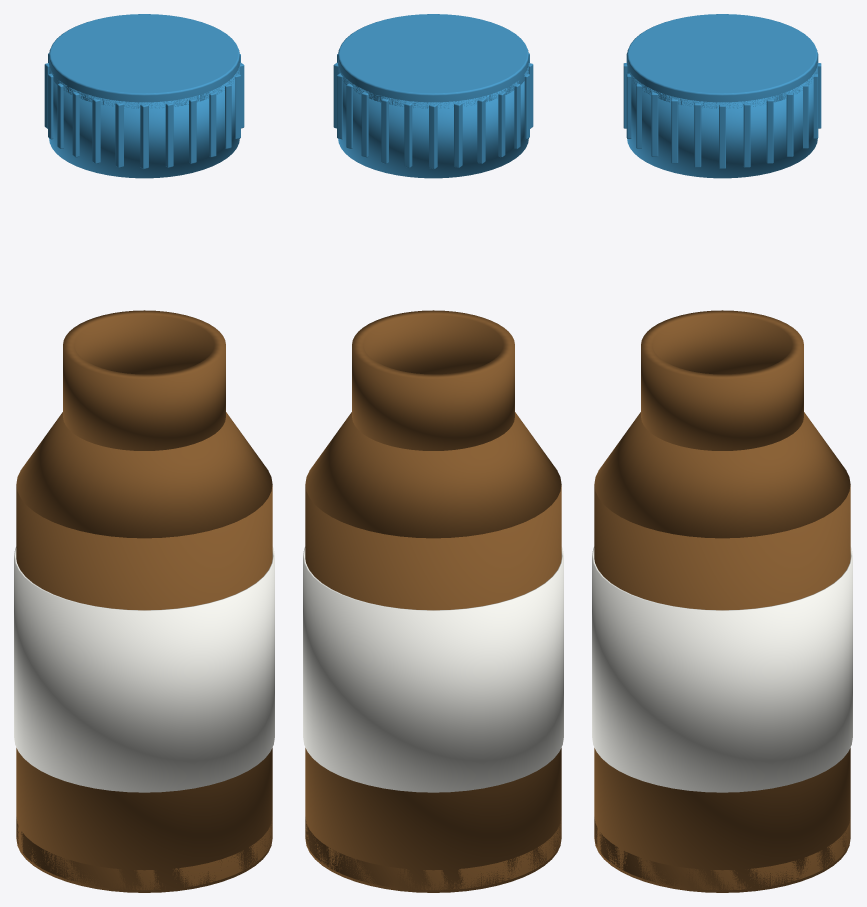
Rendered from bottle.glb.
The picture shows the model from 3 angles, left to right: view 1: azimuth 30°, elevation 25°; view 2: azimuth 150°, elevation 25°; view 3: azimuth 270°, elevation 25°; orthographic projection.
Visible parts, largest first — view 1: medicine_bottle_0__label, medicine_bottle_0__body, medicine_bottle_0__shoulder, medicine_bottle_0__neck, medicine_bottle_0__cap_top, medicine_bottle_0__cap_skirt, medicine_bottle_0__base, medicine_bottle_0__cap_rib14, medicine_bottle_0__cap_rib16, medicine_bottle_0__cap_rib15, medicine_bottle_0__cap_rib17; view 2: medicine_bottle_0__label, medicine_bottle_0__body, medicine_bottle_0__shoulder, medicine_bottle_0__neck, medicine_bottle_0__cap_top, medicine_bottle_0__cap_skirt, medicine_bottle_0__base, medicine_bottle_0__cap_rib8, medicine_bottle_0__cap_rib10, medicine_bottle_0__cap_rib9, medicine_bottle_0__cap_rib7; view 3: medicine_bottle_0__label, medicine_bottle_0__body, medicine_bottle_0__shoulder, medicine_bottle_0__neck, medicine_bottle_0__cap_top, medicine_bottle_0__cap_skirt, medicine_bottle_0__base.
Boxes of the visible parts, x1=… form: medicine_bottle_0__label: x1=14, y1=547, x2=274, y2=792; medicine_bottle_0__body: x1=16, y1=485, x2=272, y2=892; medicine_bottle_0__shoulder: x1=16, y1=412, x2=272, y2=538; medicine_bottle_0__neck: x1=63, y1=310, x2=225, y2=450; medicine_bottle_0__cap_top: x1=49, y1=14, x2=239, y2=108; medicine_bottle_0__cap_skirt: x1=49, y1=63, x2=239, y2=178; medicine_bottle_0__base: x1=16, y1=817, x2=272, y2=890; medicine_bottle_0__cap_rib14: x1=92, y1=98, x2=100, y2=163; medicine_bottle_0__cap_rib16: x1=140, y1=104, x2=148, y2=169; medicine_bottle_0__cap_rib15: x1=115, y1=102, x2=123, y2=167; medicine_bottle_0__cap_rib17: x1=165, y1=103, x2=173, y2=167; medicine_bottle_0__label: x1=303, y1=547, x2=563, y2=792; medicine_bottle_0__body: x1=305, y1=485, x2=561, y2=892; medicine_bottle_0__shoulder: x1=305, y1=412, x2=561, y2=538; medicine_bottle_0__neck: x1=352, y1=310, x2=514, y2=450; medicine_bottle_0__cap_top: x1=338, y1=14, x2=528, y2=108; medicine_bottle_0__cap_skirt: x1=338, y1=63, x2=528, y2=178; medicine_bottle_0__base: x1=305, y1=817, x2=561, y2=890; medicine_bottle_0__cap_rib8: x1=429, y1=104, x2=437, y2=169; medicine_bottle_0__cap_rib10: x1=477, y1=98, x2=485, y2=163; medicine_bottle_0__cap_rib9: x1=454, y1=102, x2=462, y2=167; medicine_bottle_0__cap_rib7: x1=404, y1=103, x2=412, y2=167; medicine_bottle_0__label: x1=592, y1=547, x2=852, y2=792; medicine_bottle_0__body: x1=594, y1=485, x2=850, y2=892; medicine_bottle_0__shoulder: x1=594, y1=412, x2=850, y2=538; medicine_bottle_0__neck: x1=641, y1=310, x2=803, y2=450; medicine_bottle_0__cap_top: x1=627, y1=14, x2=817, y2=108; medicine_bottle_0__cap_skirt: x1=627, y1=63, x2=817, y2=178; medicine_bottle_0__base: x1=594, y1=817, x2=850, y2=890.
Bounding box in the file's own units: 0.056 × 0.186 × 0.056.
